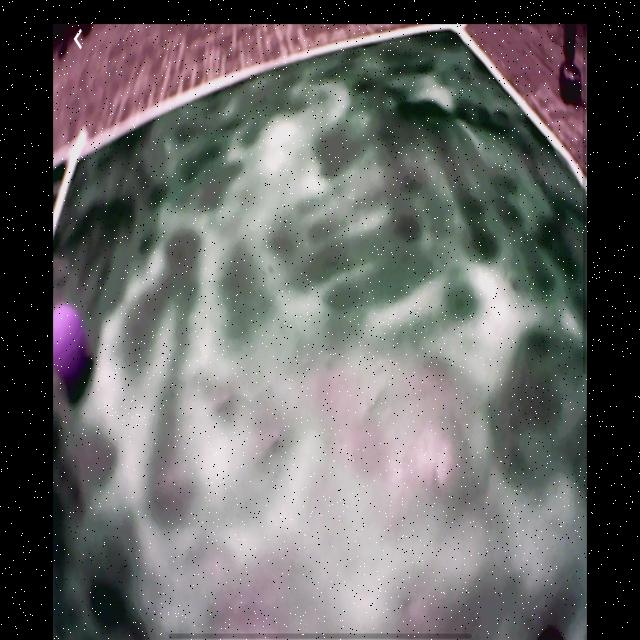ball: (54, 303, 89, 389)
